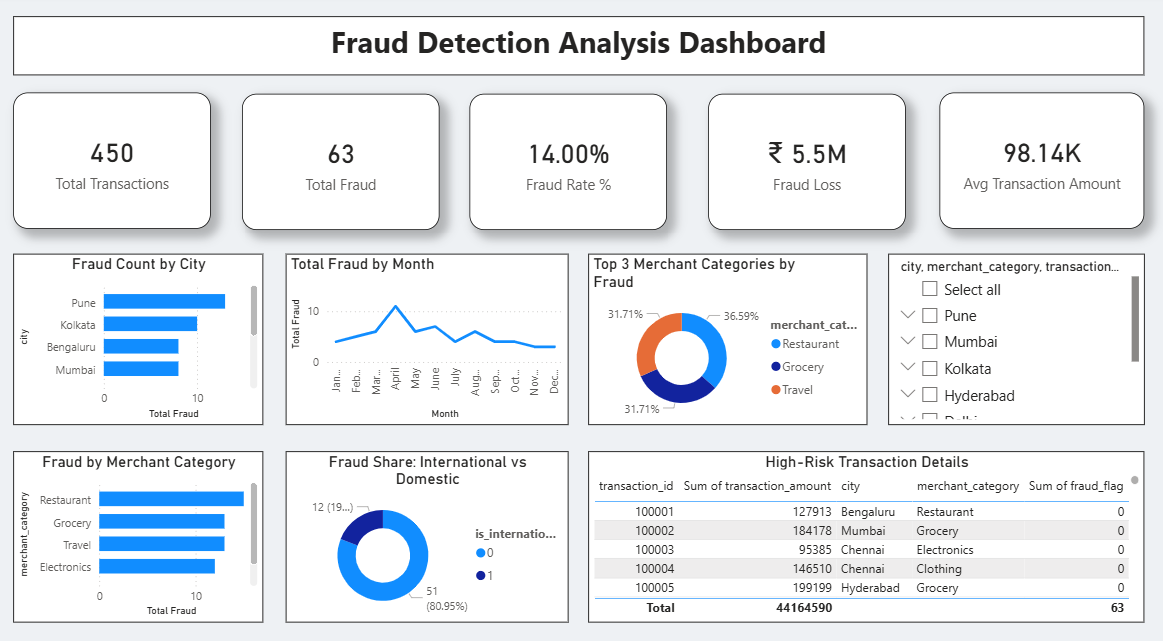

The page's visual inventory and layout, read from the dashboard file:
{"tool":"powerbi","page":{"name":"Page 1","canvas":[1280,720],"ordinal":0},"visuals":[{"type":"textbox","box":[17.8,23.3,1241.9,64.5],"z":1},{"type":"card","fields":{"Values":["transactions.Total Transactions"]},"box":[17.8,107,216.8,149.6],"z":2},{"type":"card","fields":{"Values":["transactions.Avg Transaction Amount"]},"box":[1034.7,107,225,149.6],"z":3},{"type":"card","fields":{"Values":["transactions.Fraud Loss"]},"box":[780.8,108.4,216.8,149.6],"z":4},{"type":"card","fields":{"Values":["transactions.Total Fraud"]},"box":[269,108.4,216.8,149.6],"z":5},{"type":"card","fields":{"Values":["transactions.Fraud Rate %"]},"box":[518.7,108.4,216.8,149.6],"z":6},{"type":"barChart","title":"Fraud Count by City","fields":{"Category":["transactions.city"],"Y":["transactions.Total Fraud"]},"box":[17.8,284,274.4,188],"z":7},{"type":"barChart","title":"Fraud by Merchant Category","fields":{"Y":["transactions.Total Fraud"],"Category":["transactions.merchant_category"]},"box":[17.8,500.9,274.4,188],"z":8},{"type":"lineChart","fields":{"Category":["transactions.transaction_date.Variation.Date Hierarchy.Month"],"Y":["transactions.Total Fraud"]},"box":[317,284,310.1,188],"z":9},{"type":"tableEx","title":"High-Risk Transaction Details","fields":{"Values":["transactions.transaction_id","Sum(transactions.transaction_amount)","transactions.city","transactions.merchant_category","Sum(fraud_predictions.fraud_flag)"]},"box":[649.1,500.9,610.6,188],"z":10},{"type":"slicer","fields":{"Values":["transactions.city","transactions.merchant_category","transactions.transaction_date"]},"box":[978.4,284,281.3,188],"z":11},{"type":"donutChart","title":"Fraud Share: International vs Domestic","fields":{"Y":["transactions.Total Fraud"],"Category":["transactions.is_international"]},"box":[317,500.9,310.1,188],"z":12},{"type":"donutChart","title":"Top 3 Merchant Categories by Fraud","fields":{"Category":["transactions.merchant_category"],"Y":["transactions.Total Fraud"]},"box":[649.1,284,306,188],"z":13}]}

Visuals, with their boxes in screenshot pixels (x1, y1, x2, y2), scaled from the page's 1280x720 canvas onto the 1163x641 screenshot:
textbox: box(16, 21, 1145, 78)
card - transactions.Total Transactions: box(16, 95, 213, 228)
card - transactions.Avg Transaction Amount: box(940, 95, 1145, 228)
card - transactions.Fraud Loss: box(709, 97, 906, 230)
card - transactions.Total Fraud: box(244, 97, 441, 230)
card - transactions.Fraud Rate %: box(471, 97, 668, 230)
"Fraud Count by City" barChart: box(16, 253, 265, 420)
"Fraud by Merchant Category" barChart: box(16, 446, 265, 613)
lineChart - transactions.transaction_date.Variation.Date Hierarchy.Month x transactions.Total Fraud: box(288, 253, 570, 420)
"High-Risk Transaction Details" tableEx: box(590, 446, 1145, 613)
slicer - transactions.city x transactions.merchant_category: box(889, 253, 1145, 420)
"Fraud Share: International vs Domestic" donutChart: box(288, 446, 570, 613)
"Top 3 Merchant Categories by Fraud" donutChart: box(590, 253, 868, 420)
